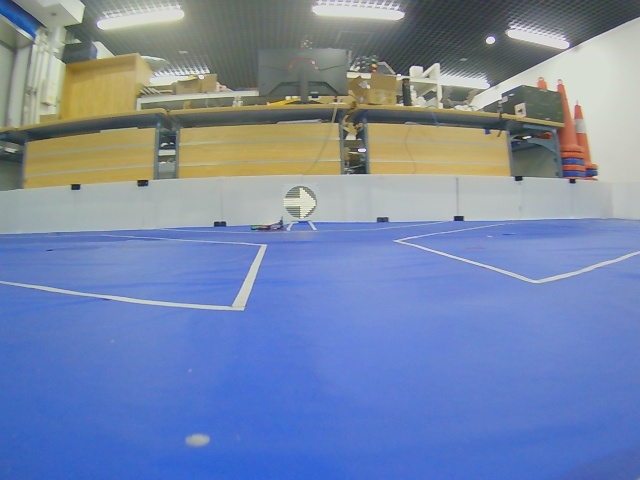right_yellow: (283, 186, 317, 220)
